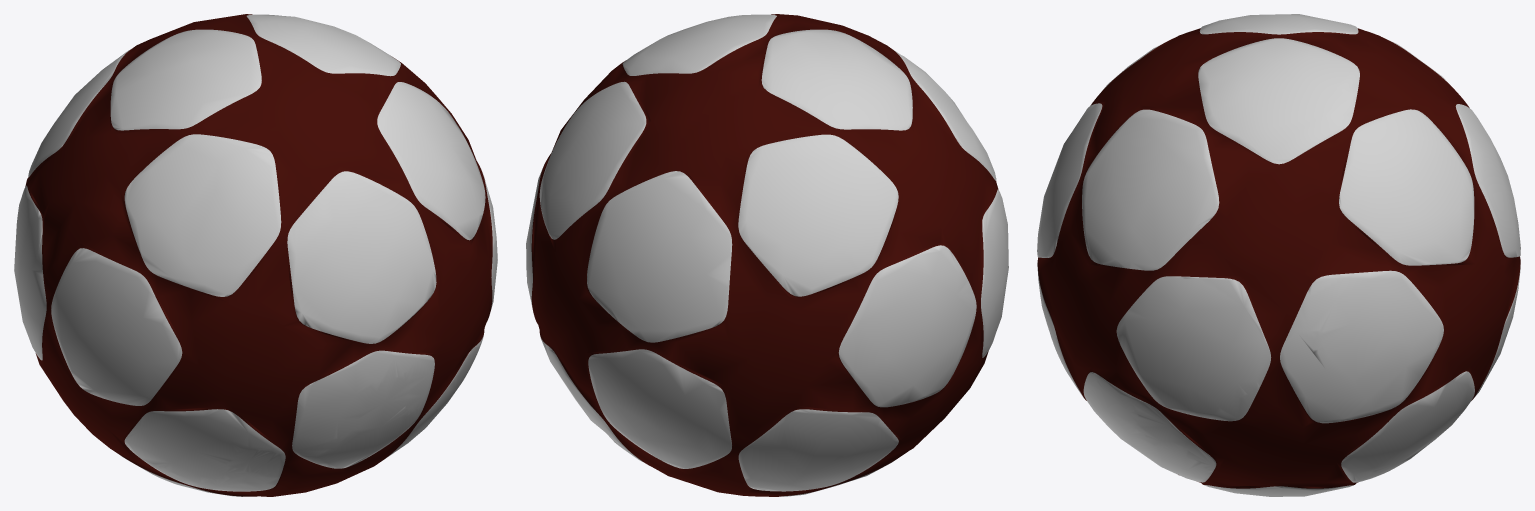
Rendered from TestAnalyzer2.fbx.
3 views of the same model, side by side, from view 1: azimuth 30°, elevation 25°; view 2: azimuth 150°, elevation 25°; view 3: azimuth 270°, elevation 25° (orthographic).
Parts seen in each view (by area): view 1: Hedra001; view 2: Hedra001; view 3: Hedra001.
Part boxes in pixels (box(x1,y1,x2,y2)): Hedra001: box(14, 14, 497, 496); Hedra001: box(526, 14, 1008, 496); Hedra001: box(1037, 14, 1520, 496).
Size of the model in its own units: 63.89 by 63.9 by 63.91.
